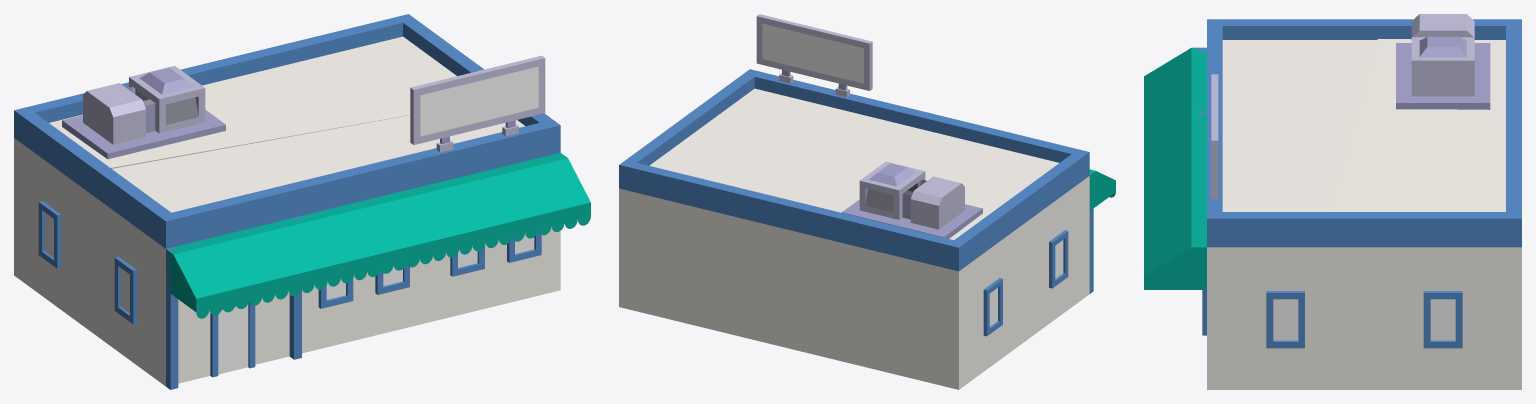
File: Final Shatter Shop.fbx
The picture shows the model from 3 angles, left to right: view 1: azimuth 30°, elevation 25°; view 2: azimuth 150°, elevation 25°; view 3: azimuth 270°, elevation 25°; orthographic projection. The views are drawn at different scales.
Parts seen in each view (by area): view 1: polySurface105, polySurface106; view 2: polySurface106, polySurface105; view 3: polySurface106, polySurface105.
Boxes of the visible parts, x1,y1,x2,y2 form: polySurface105: [70, 55, 590, 389]; polySurface106: [14, 14, 483, 316]; polySurface106: [619, 103, 1018, 389]; polySurface105: [703, 14, 1115, 353]; polySurface106: [1320, 14, 1521, 389]; polySurface105: [1144, 19, 1377, 389].
Bounding box in the file's own units: 306 × 170 × 240.
